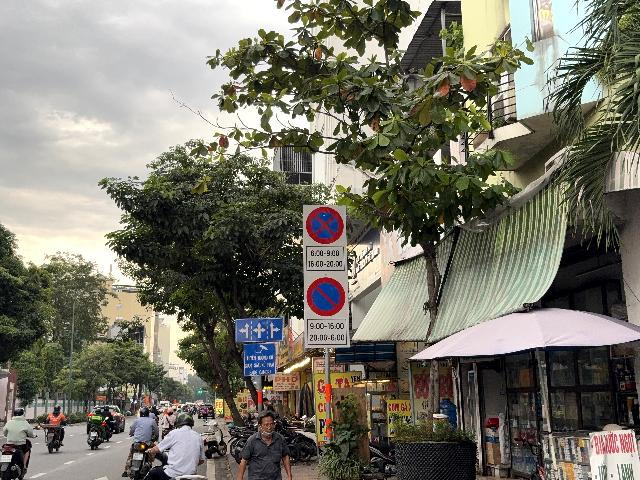cam-do-xe: (307, 277, 346, 317)
cam-dung-va-do-xe: (306, 206, 344, 244)
